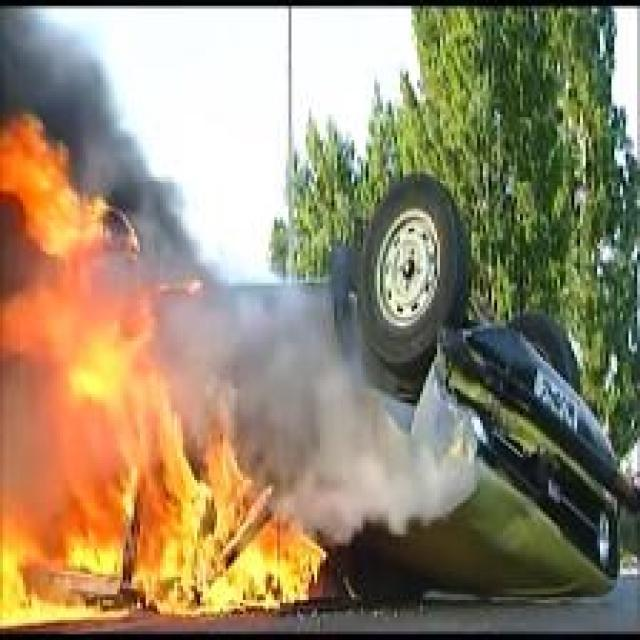Fire: (0, 111, 329, 628)
